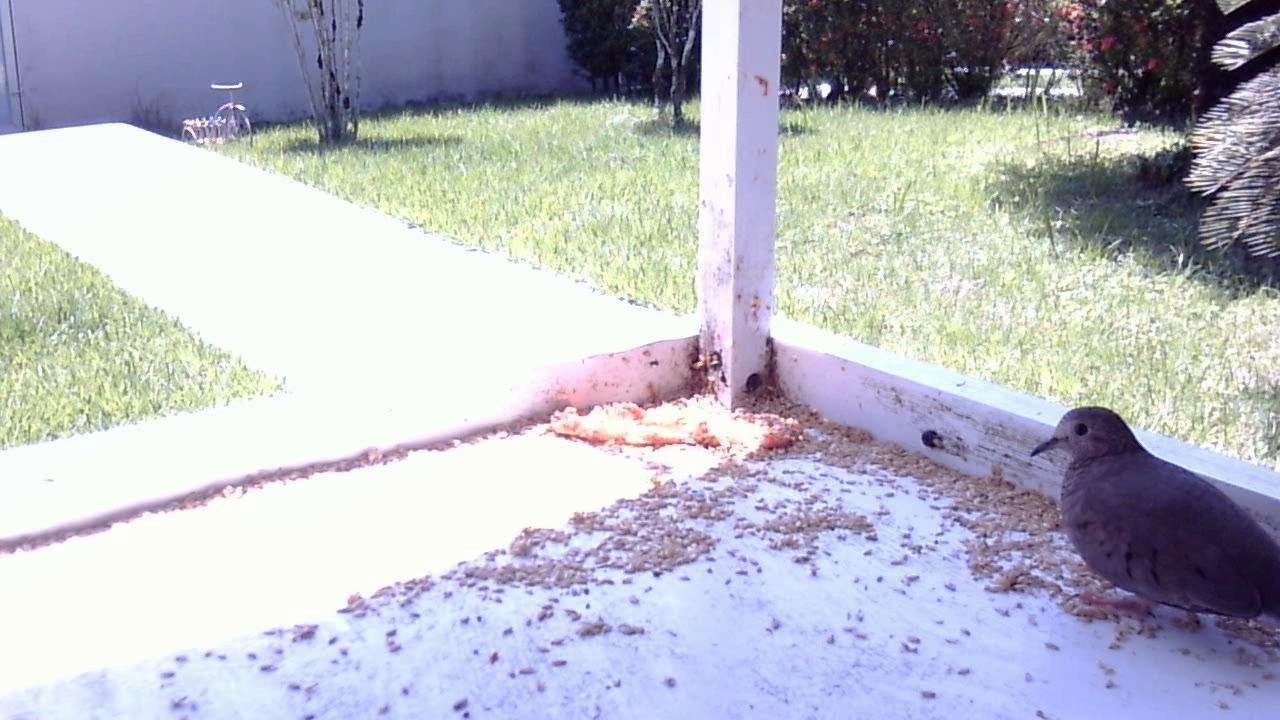rolinha: (1021, 400, 1278, 645)
